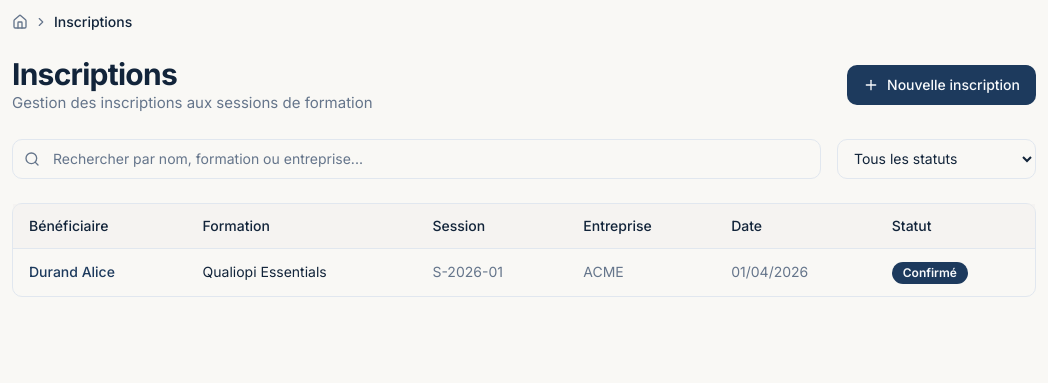
EnrollmentsListPage › shows "aucun résultat" when search filters everything out
In the field with placeholder "Rechercher par nom, formation ou entreprise...": (416, 158) [12,138,821,178], type "zzz"
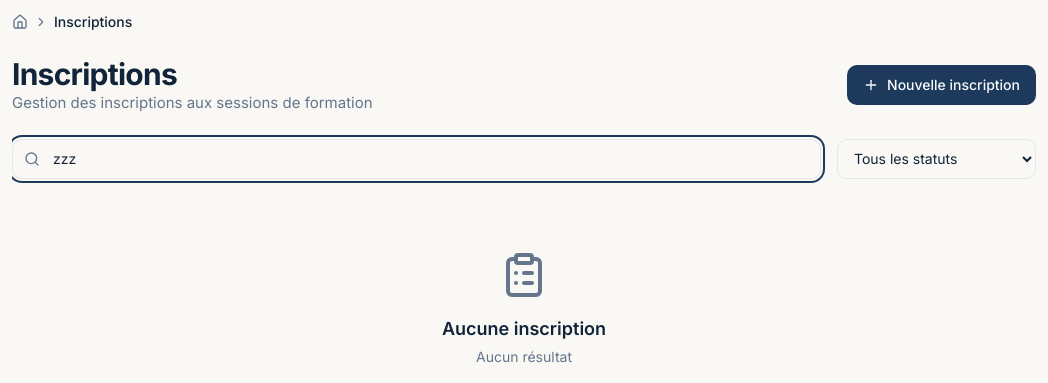
Expected: the heading "Aucune inscription" is shown, [442,314,606,342]
Expected: the text "Aucun résultat" is shown, [476,346,572,366]
